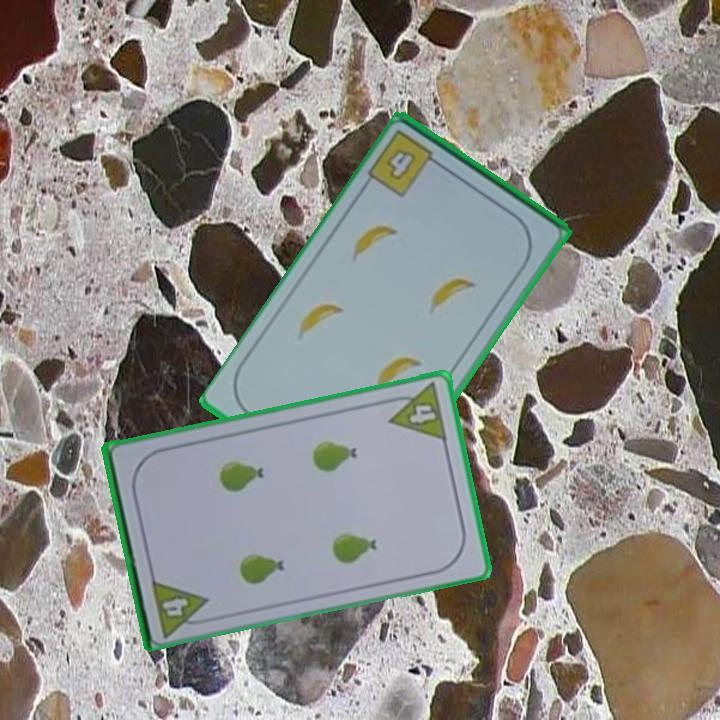4b: (364, 126, 447, 201)
4p: (382, 379, 450, 444), (147, 574, 214, 639)
